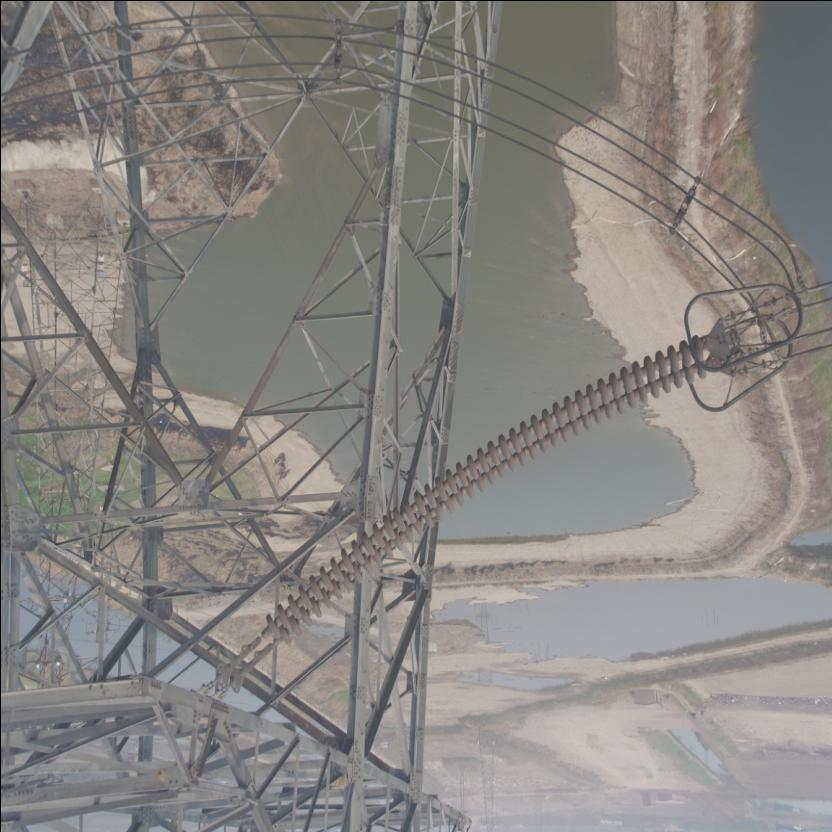insulator: (253, 329, 715, 659)
